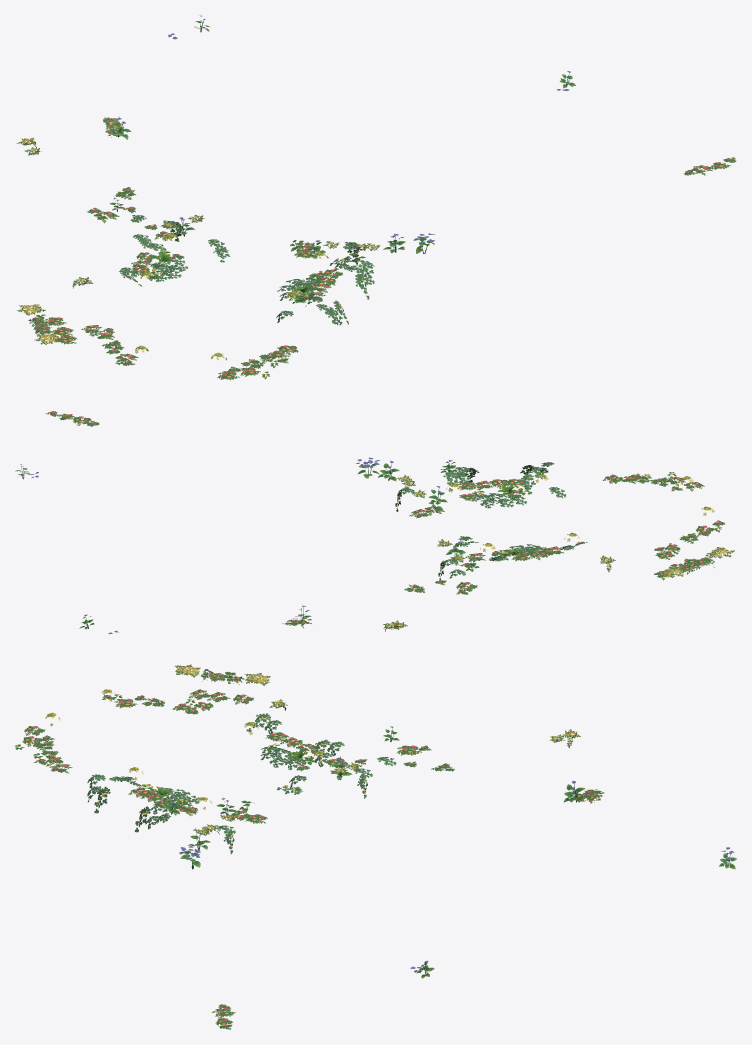
File: pref_sm_garden_plan_vertexcolor_03_lv2.fbx
3 views of the same model, one above another, from view 1: azimuth 30°, elevation 25°; view 2: azimuth 150°, elevation 25°; view 3: azimuth 270°, elevation 25° (orthographic). The views are drawn at different scales.
Visible parts, largest first — view 1: pref_sm_garden_plan_vertexcolor_03_lv2; view 2: pref_sm_garden_plan_vertexcolor_03_lv2; view 3: pref_sm_garden_plan_vertexcolor_03_lv2.
Boxes of the visible parts, left/top/right/bottom form: pref_sm_garden_plan_vertexcolor_03_lv2: left=16, top=14, right=736, bottom=380; pref_sm_garden_plan_vertexcolor_03_lv2: left=15, top=411, right=734, bottom=634; pref_sm_garden_plan_vertexcolor_03_lv2: left=14, top=664, right=736, bottom=1029.
Size of the model in its own units: 60.01 by 3.82 by 51.02.
